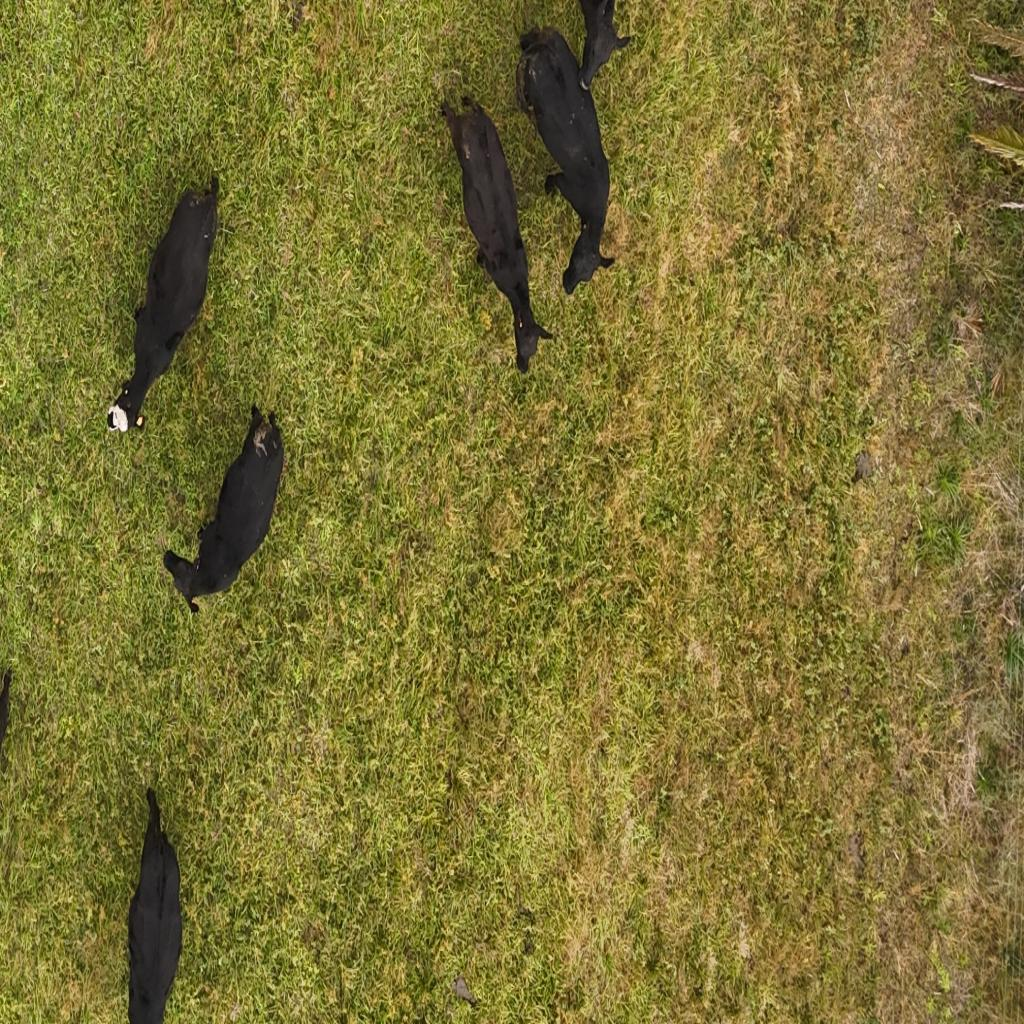cow: (106, 180, 218, 436), (515, 12, 611, 298), (445, 99, 548, 365), (165, 411, 283, 612)
